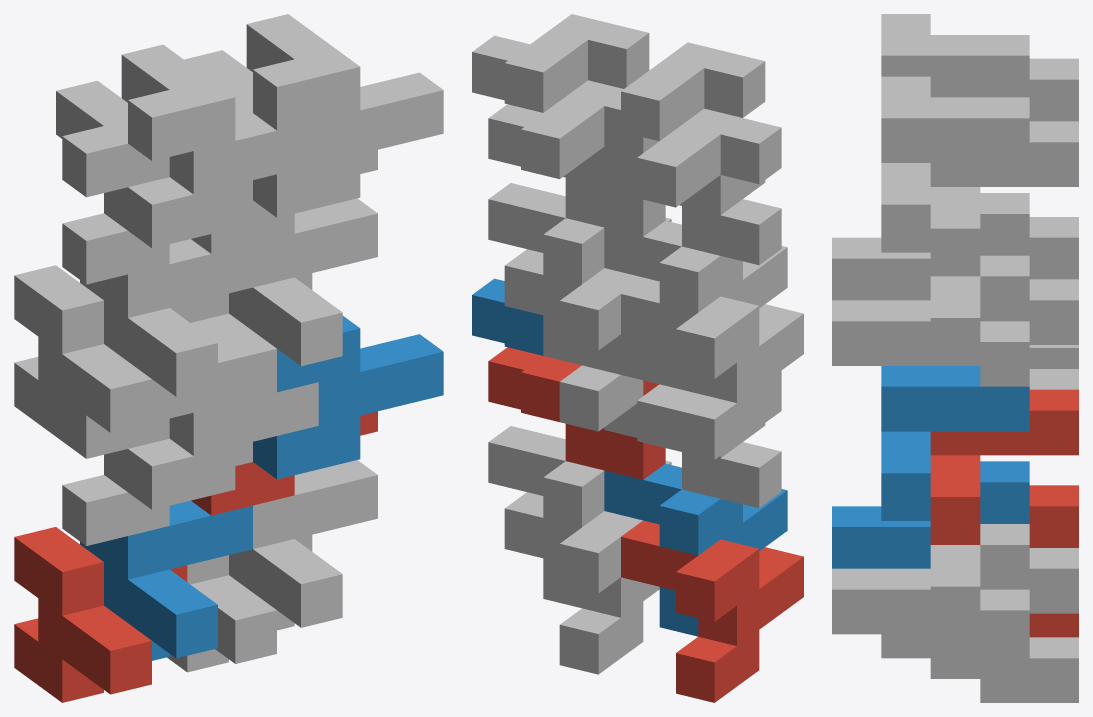
The model's file is tiling.obj.
3 views of the same model, side by side, from view 1: azimuth 30°, elevation 25°; view 2: azimuth 150°, elevation 25°; view 3: azimuth 270°, elevation 25° (orthographic). The views are drawn at different scales.
Visible parts, largest first — view 1: copy_2_domain_4, copy_2_domain_8, copy_1_domain_1, copy_1_domain_3, copy_2_domain_2, copy_2_domain_3, copy_1_domain_2, copy_2_domain_6, copy_1_domain_4, copy_1_domain_6, copy_1_domain_8, copy_2_domain_1 (+4 smaller); view 2: copy_1_domain_3, copy_1_domain_1, copy_2_domain_3, copy_2_domain_7, copy_1_domain_5, copy_1_domain_7, copy_2_domain_8, copy_1_domain_2, copy_1_domain_4, copy_2_domain_4, copy_2_domain_1, copy_1_domain_6 (+4 smaller); view 3: copy_1_domain_6, copy_2_domain_8, copy_1_domain_8, copy_2_domain_6, copy_1_domain_5, copy_2_domain_5, copy_2_domain_7, copy_2_domain_4, copy_1_domain_4, copy_1_domain_2, copy_1_domain_7, copy_1_domain_1 (+3 smaller).
Boxes of the visible parts, <box> form: copy_2_domain_4: <box>121,44,318,248</box>; copy_2_domain_8: <box>246,14,443,217</box>; copy_1_domain_1: <box>14,527,187,702</box>; copy_1_domain_3: <box>14,265,187,440</box>; copy_2_domain_2: <box>128,346,318,509</box>; copy_2_domain_3: <box>56,80,252,284</box>; copy_1_domain_2: <box>80,500,252,660</box>; copy_2_domain_6: <box>253,316,443,479</box>; copy_1_domain_4: <box>80,239,252,396</box>; copy_1_domain_6: <box>229,460,377,630</box>; copy_1_domain_8: <box>229,198,377,366</box>; copy_2_domain_1: <box>62,398,252,545</box>; copy_1_domain_3: <box>621,277,803,459</box>; copy_1_domain_1: <box>621,520,803,702</box>; copy_2_domain_3: <box>604,108,781,265</box>; copy_2_domain_7: <box>488,80,665,236</box>; copy_1_domain_5: <box>504,492,659,674</box>; copy_1_domain_7: <box>504,249,643,431</box>; copy_2_domain_8: <box>472,14,649,112</box>; copy_1_domain_2: <box>604,463,787,636</box>; copy_1_domain_4: <box>604,220,787,393</box>; copy_2_domain_4: <box>621,42,765,198</box>; copy_2_domain_1: <box>604,370,781,507</box>; copy_1_domain_6: <box>488,426,671,608</box>; copy_1_domain_6: <box>832,524,1029,678</box>; copy_2_domain_8: <box>881,76,1029,252</box>; copy_1_domain_8: <box>832,255,1029,365</box>; copy_2_domain_6: <box>881,366,1029,520</box>; copy_1_domain_5: <box>881,548,1078,702</box>; copy_2_domain_5: <box>930,389,1078,544</box>; copy_2_domain_7: <box>930,121,1078,276</box>; copy_2_domain_4: <box>881,14,1029,97</box>; copy_1_domain_4: <box>832,193,1029,300</box>; copy_1_domain_2: <box>832,461,1029,568</box>; copy_1_domain_7: <box>980,279,1078,389</box>; copy_1_domain_1: <box>1029,485,1078,637</box>.
Bounding box in the file's own units: 8 × 14 × 5.
